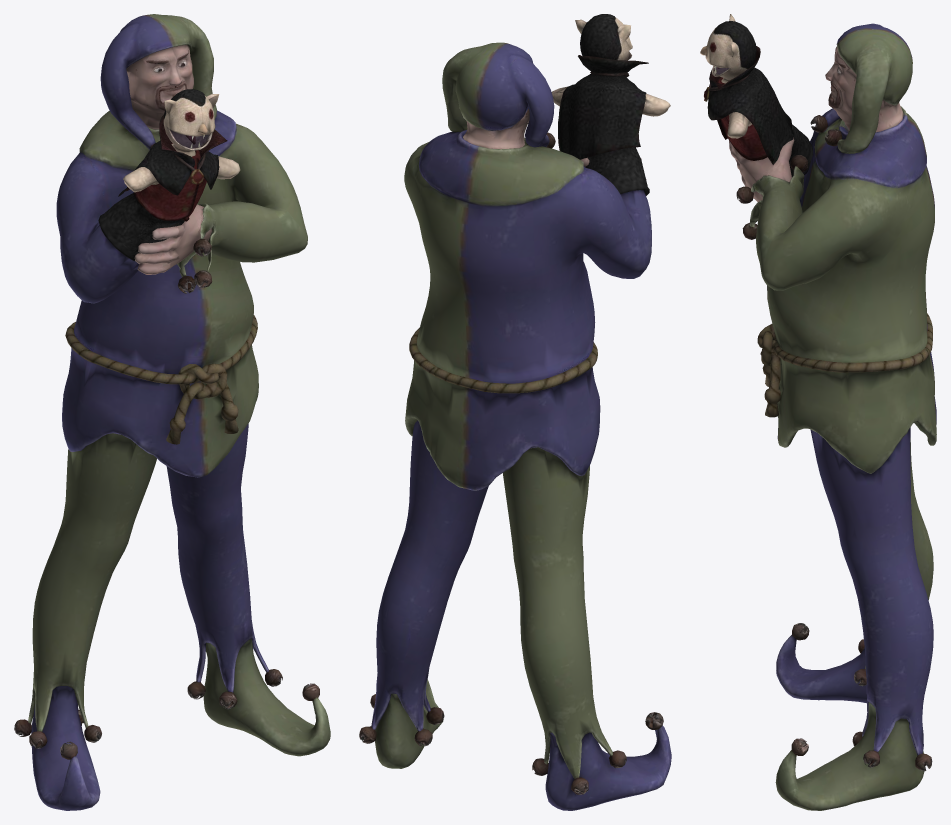
The model's file is MZ4250 - Blinsky.glb.
The picture shows the model from 3 angles, left to right: view 1: azimuth 30°, elevation 25°; view 2: azimuth 150°, elevation 25°; view 3: azimuth 270°, elevation 25°; orthographic projection. The views are drawn at different scales.
Visible parts, largest first — view 1: Blinsky; view 2: Blinsky; view 3: Blinsky.
Boxes of the visible parts, box(x1,y1,x2,y2) form: Blinsky: box(14, 14, 330, 810); Blinsky: box(359, 14, 671, 810); Blinsky: box(700, 14, 936, 810).
Bounding box in the file's own units: 0.9217 × 2.34 × 0.6976.
1 material, 1 textured.
